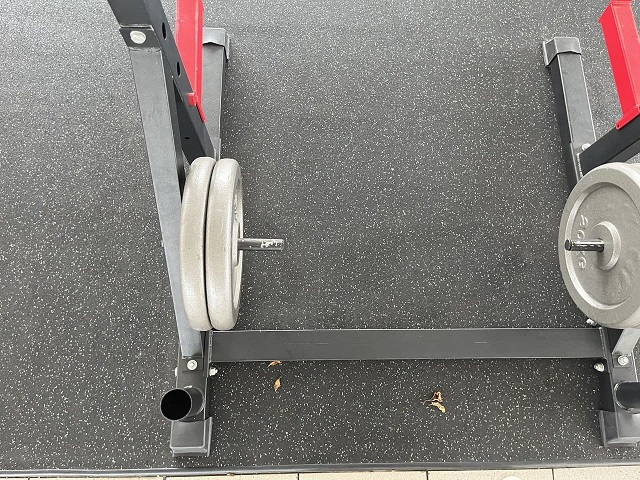weights: (556, 161, 640, 329), (175, 155, 218, 333), (205, 157, 244, 331)
